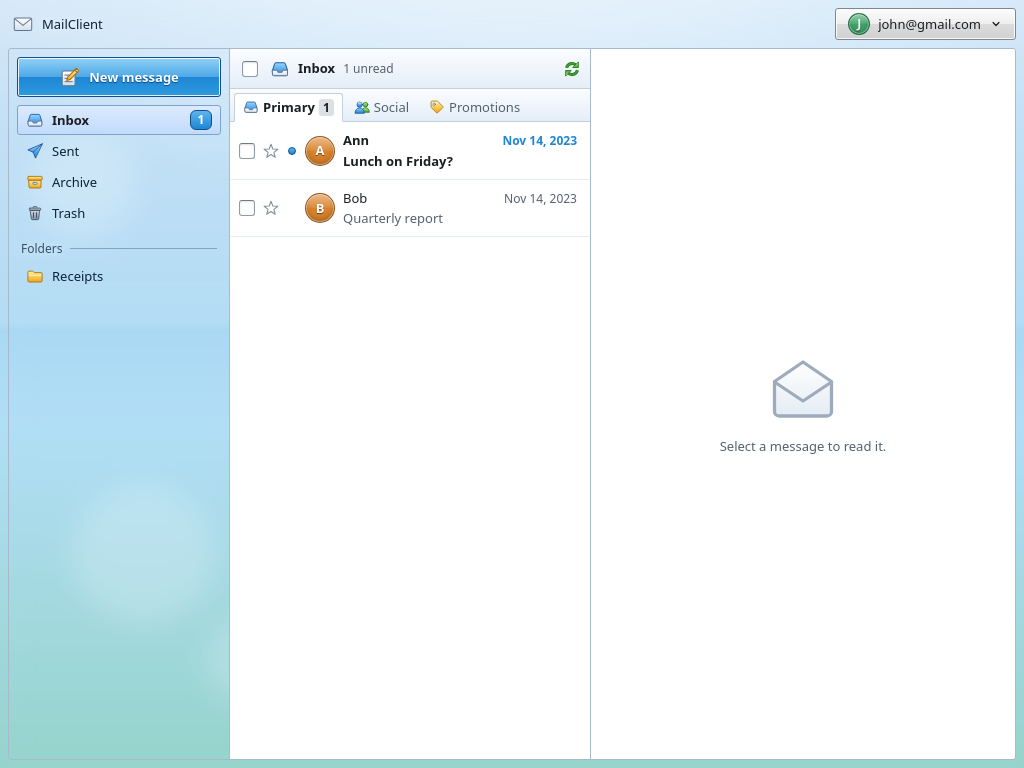
Test case: Workspace › takes a setting back and says so when it cannot be stored
The image size is (1024, 768).
Click the button with aria-label "Account: " at (926, 24), box [835,8,1016,40]
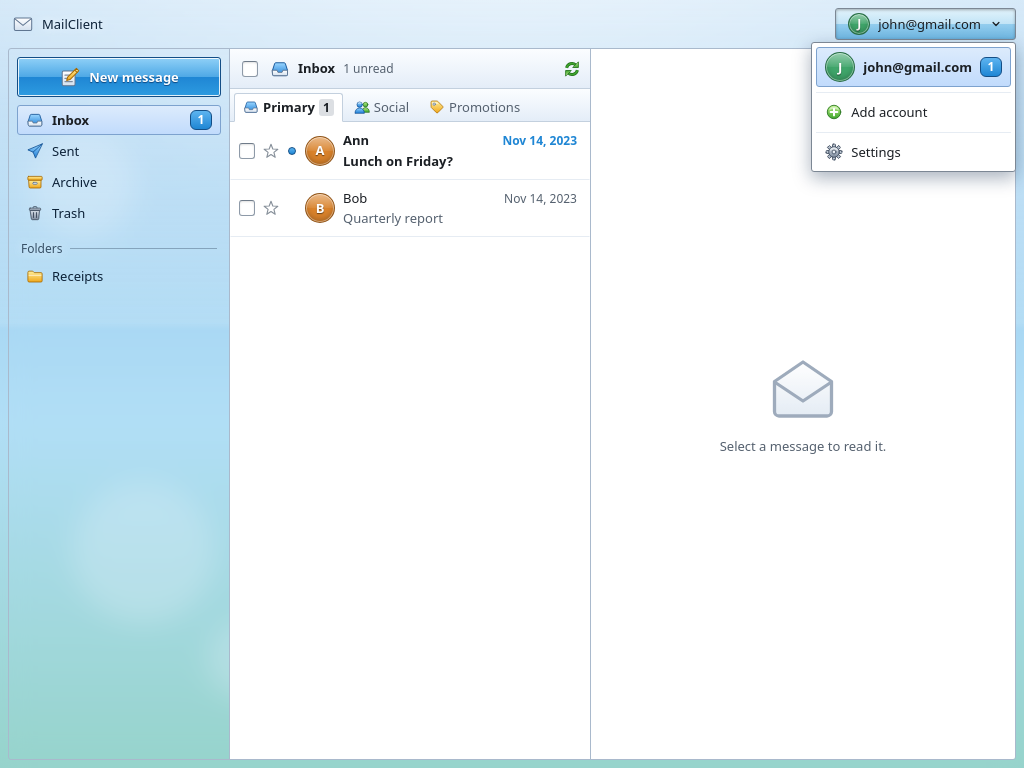
Click the menu item "Settings" at (914, 152), box [816,138,1011,167]
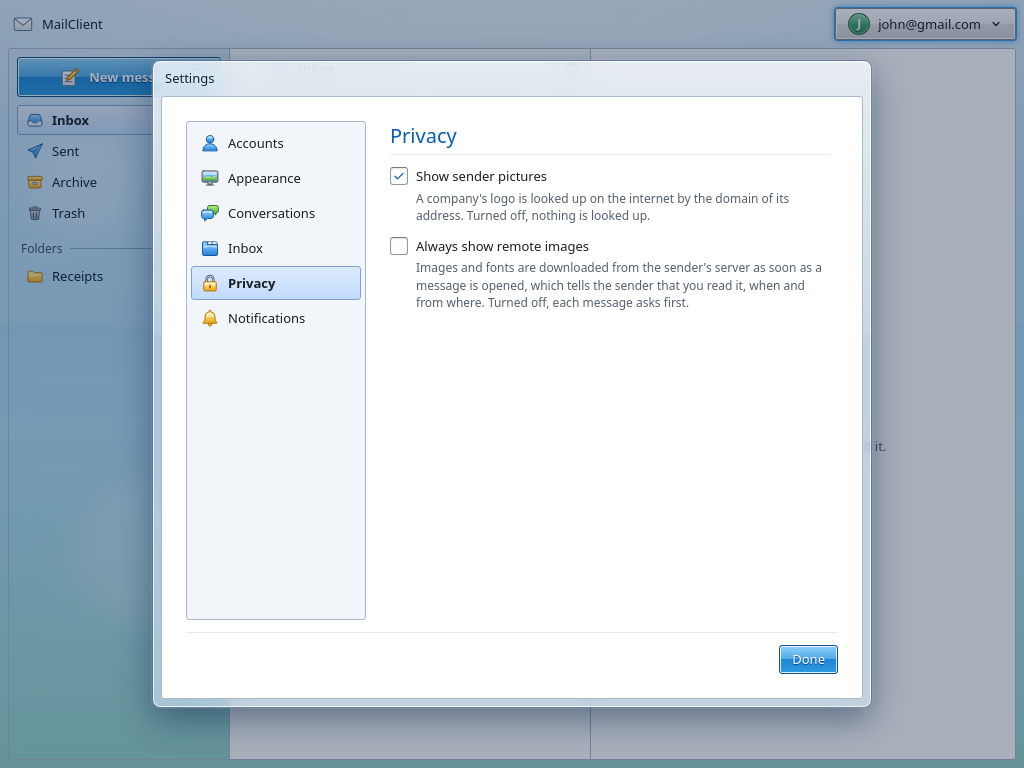
Click the tab "Privacy" at (276, 283), box [191,266,361,300]
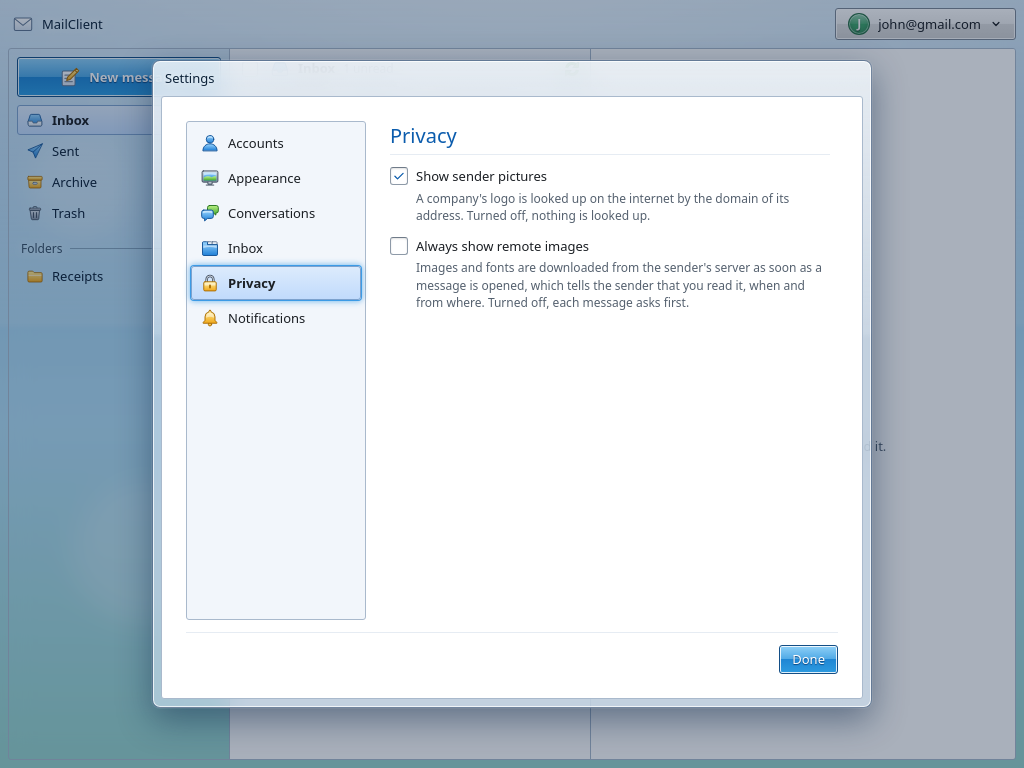
Click the checkbox labelled "Always show remote images" at (610, 274), box [390,237,830,312]
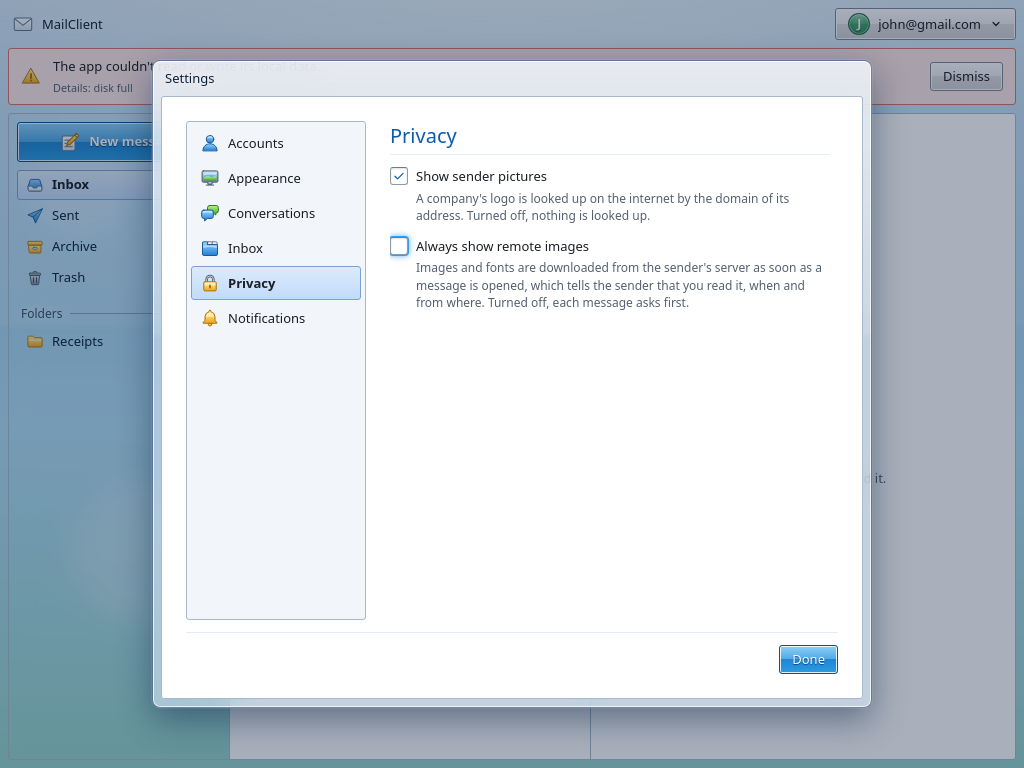
Expected: the checkbox labelled "Always show remote images" is not checked, [390,237,830,312]
Expected: the message shows "disk full", [53,80,133,95]
